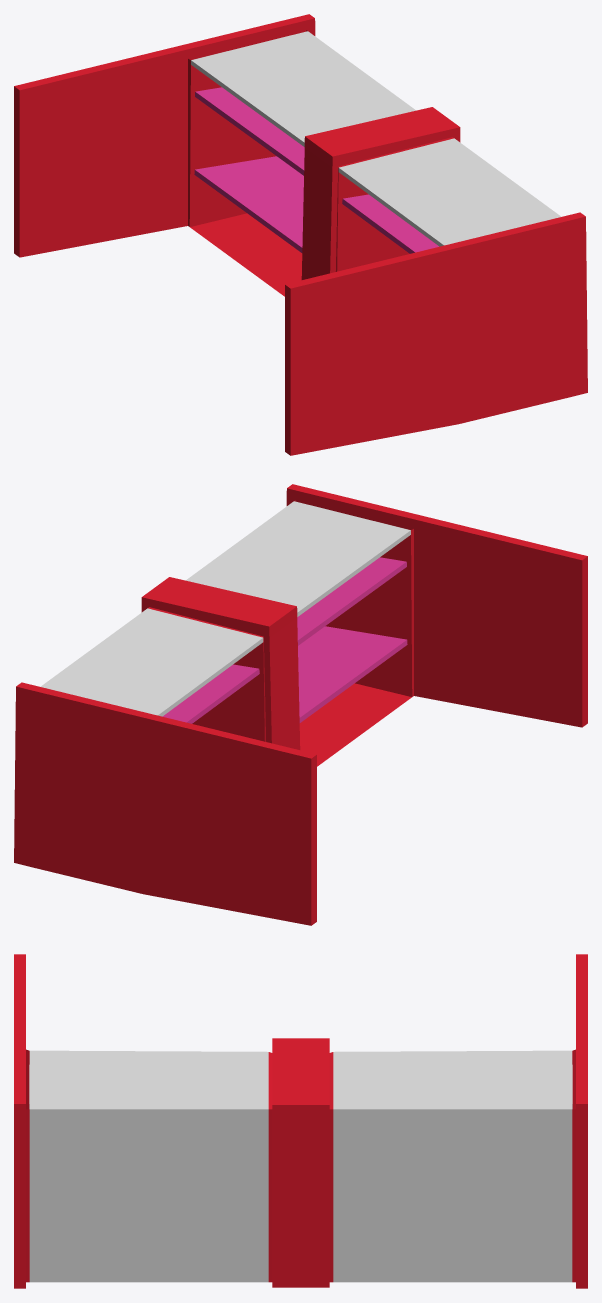
The model's file is PrizeCounter.fbx.
The picture shows the model from 3 angles, top to bottom: view 1: azimuth 30°, elevation 25°; view 2: azimuth 150°, elevation 25°; view 3: azimuth 270°, elevation 25°; orthographic projection. The views are drawn at different scales.
Visible parts, largest first — view 1: Cube; view 2: Cube; view 3: Cube.
Part boxes in pixels (x1,y1,x2,y2): Cube: (14,14,587,455); Cube: (14,484,587,925); Cube: (14,954,587,1288).
Size of the model in its own units: 1584 by 907 by 2551.
